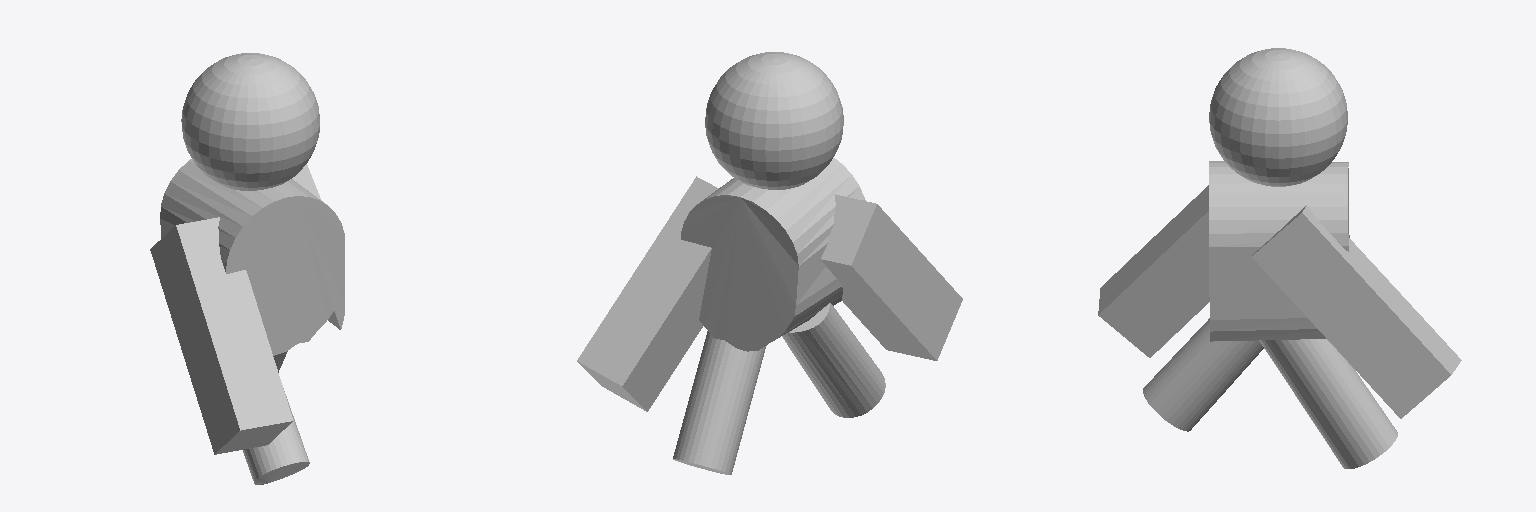
Rendered from Figurine114.obj.
The picture shows the model from 3 angles: view 1: azimuth 30°, elevation 25°; view 2: azimuth 150°, elevation 25°; view 3: azimuth 270°, elevation 25°; orthographic projection.
Parts seen in each view (by area): view 1: Cylinder; view 2: Cylinder; view 3: Cylinder.
Boxes of the visible parts, <box> form: Cylinder: <box>150,53,344,484</box>; Cylinder: <box>577,52,962,474</box>; Cylinder: <box>1098,48,1461,468</box>.
Size of the model in its own units: 3.49 by 6.3 by 5.22.